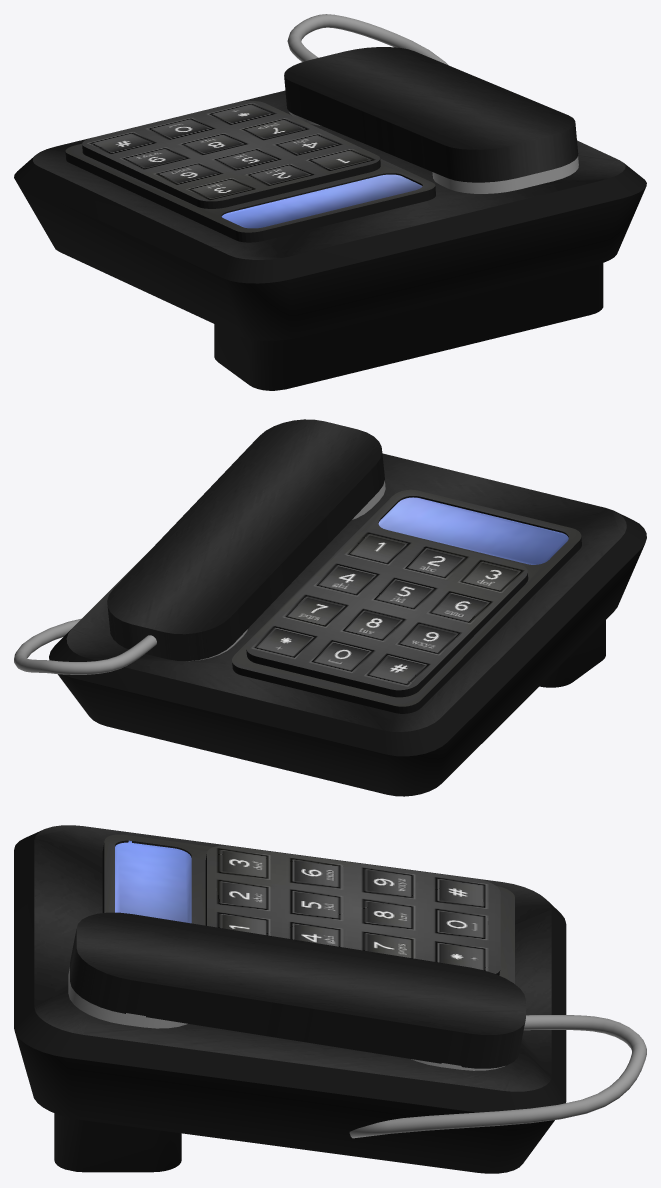
The model's file is 34 cellphone.fbx.
The picture shows the model from 3 angles, top to bottom: view 1: azimuth 30°, elevation 25°; view 2: azimuth 150°, elevation 25°; view 3: azimuth 270°, elevation 25°; orthographic projection. The views are drawn at different scales.
Parts seen in each view (by area): view 1: Rectangle001, Rectangle006, Line001, Rectangle007; view 2: Rectangle001, Rectangle006, Line001; view 3: Rectangle001, Rectangle006, Line001, Rectangle007.
Boxes of the visible parts, x1,y1,x2,y2 form: Rectangle001: [14, 90, 646, 390]; Rectangle006: [284, 47, 578, 182]; Line001: [287, 14, 448, 65]; Rectangle007: [432, 156, 578, 193]; Rectangle001: [49, 453, 646, 796]; Rectangle006: [107, 419, 384, 661]; Line001: [14, 618, 156, 674]; Rectangle001: [14, 825, 566, 1173]; Rectangle006: [70, 912, 525, 1068]; Line001: [349, 1015, 646, 1138]; Rectangle007: [68, 967, 187, 1028].
Size of the model in its own units: 72.87 by 28.88 by 83.95.
6 materials, 4 textured.
